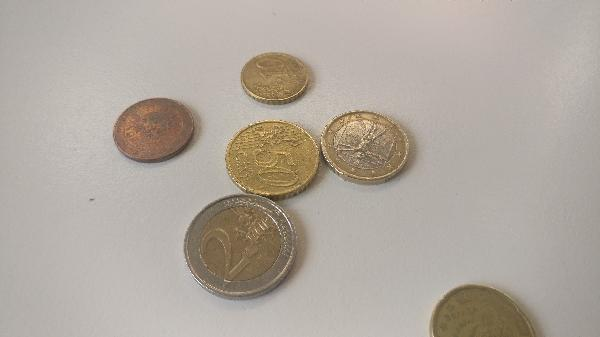Fifty Cent: (222, 117, 320, 203)
Five Cent: (111, 96, 196, 164)
One Euro: (321, 111, 410, 185)
Ten Cent: (239, 50, 311, 105)
Twenty Cent: (426, 281, 536, 337)
Two Euro: (186, 192, 300, 294)
